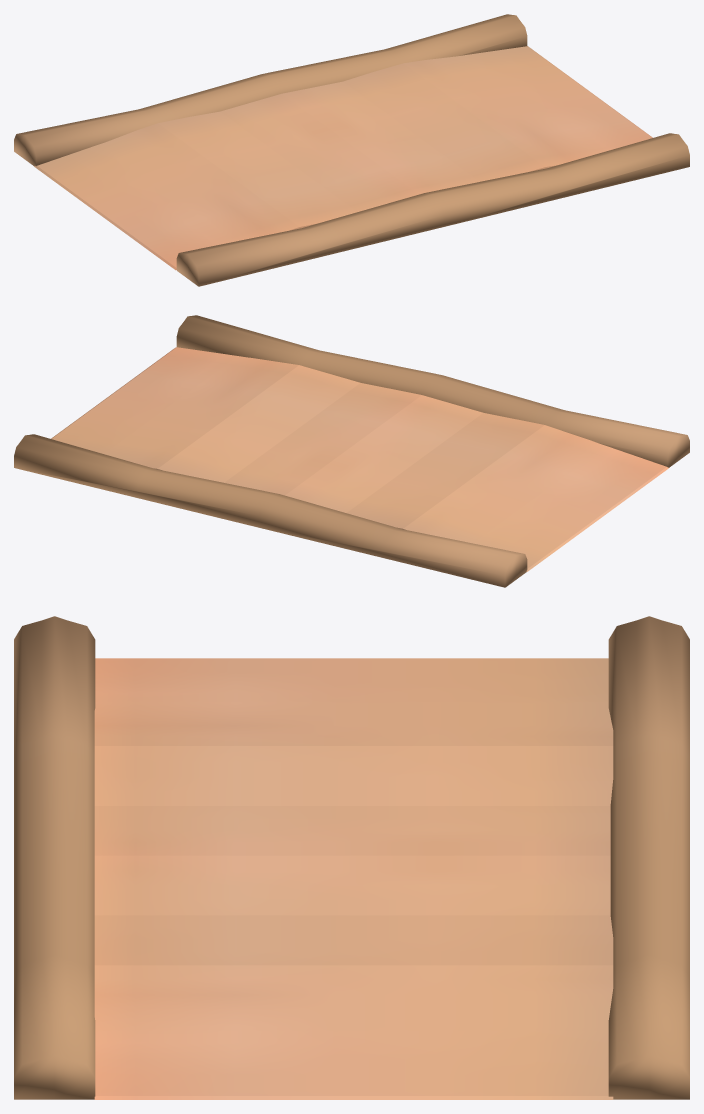
File: DirtBikeSandTrackWithBarriers.glb
The picture shows the model from 3 angles, top to bottom: view 1: azimuth 30°, elevation 25°; view 2: azimuth 150°, elevation 25°; view 3: azimuth 270°, elevation 25°; orthographic projection. The views are drawn at different scales.
Parts seen in each view (by area): view 1: DirtBikeSandTrackWithBarriers; view 2: DirtBikeSandTrackWithBarriers; view 3: DirtBikeSandTrackWithBarriers.
Part boxes in pixels (x1,y1,x2,y2): DirtBikeSandTrackWithBarriers: (14, 14, 689, 286); DirtBikeSandTrackWithBarriers: (14, 315, 689, 587); DirtBikeSandTrackWithBarriers: (14, 616, 689, 1099).
Size of the model in its own units: 8.04 by 0.3824 by 5.21.
Materials: 1 (1 with a texture image).
